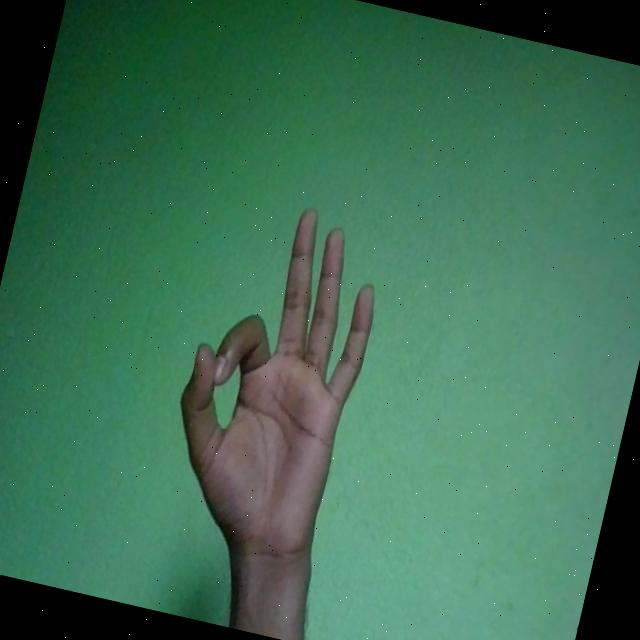Rock On: (147, 188, 396, 574)
